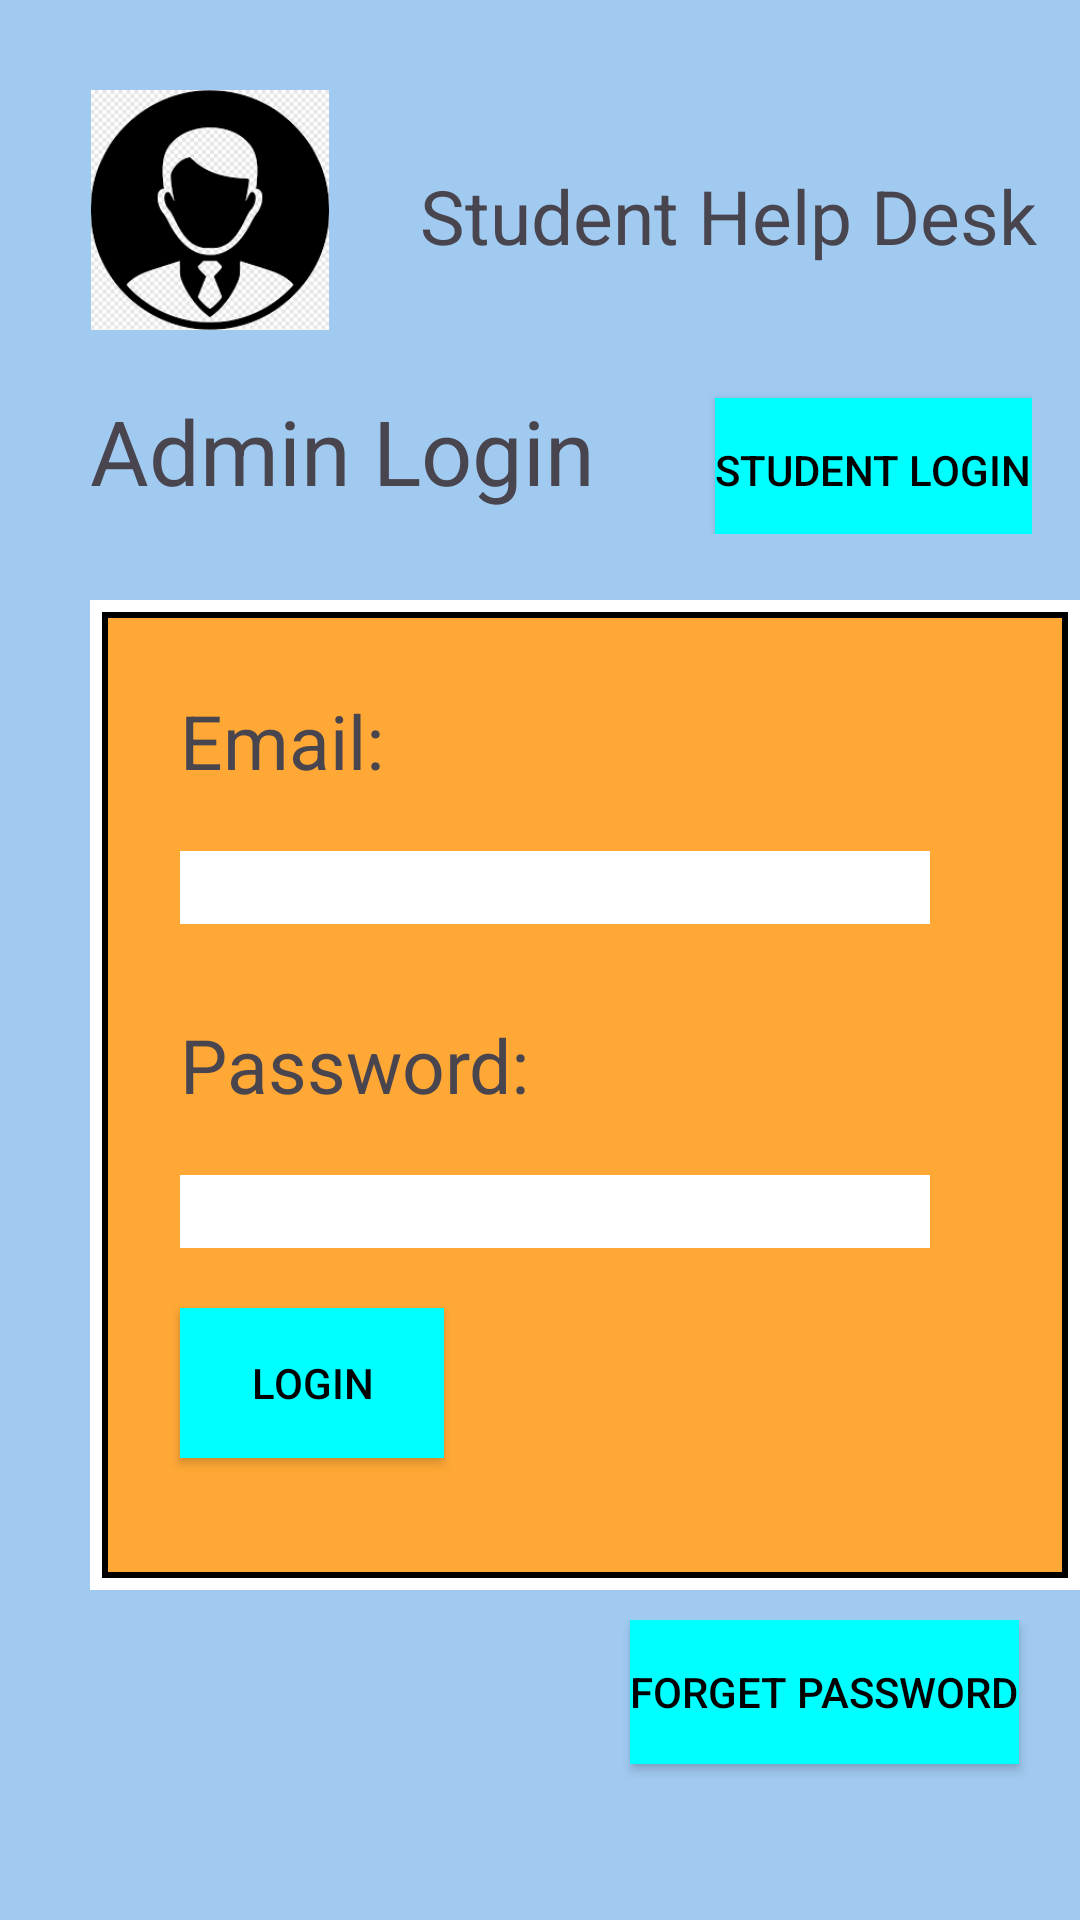

Screen size 1080x1920. Icon name, then its box in pixels as detection(x1, y1, x2, y2):
profile: detection(91, 90, 329, 330)
